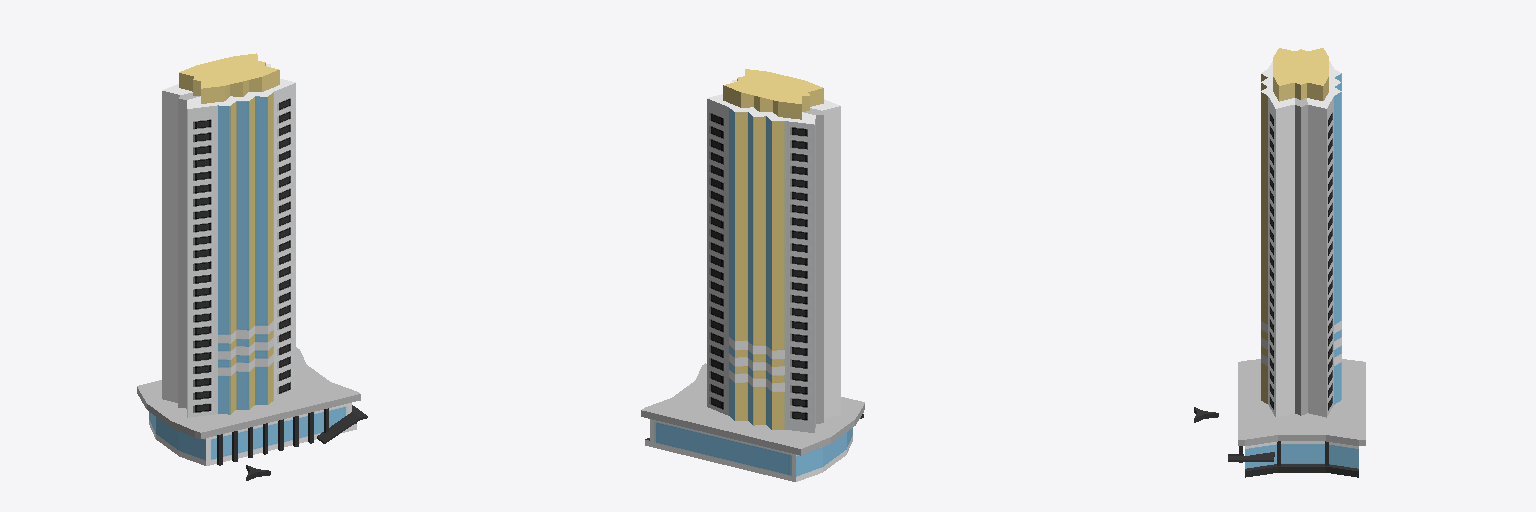
3 views of the same model, side by side, from view 1: azimuth 30°, elevation 25°; view 2: azimuth 150°, elevation 25°; view 3: azimuth 270°, elevation 25° (orthographic).
Visible parts, largest first — view 1: service_hotelkazakstan_Cube.025; view 2: service_hotelkazakstan_Cube.025; view 3: service_hotelkazakstan_Cube.025.
Boxes of the visible parts, x1,y1,x2,y2 form: service_hotelkazakstan_Cube.025: [137, 53, 367, 480]; service_hotelkazakstan_Cube.025: [641, 69, 864, 481]; service_hotelkazakstan_Cube.025: [1194, 48, 1365, 477].
Bounding box in the file's own units: 1.83 × 3.66 × 1.58.
1 materials, 1 textured.